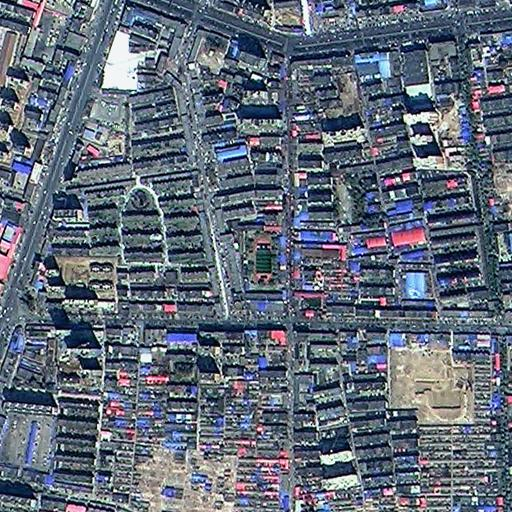school: (241, 223, 282, 294)
